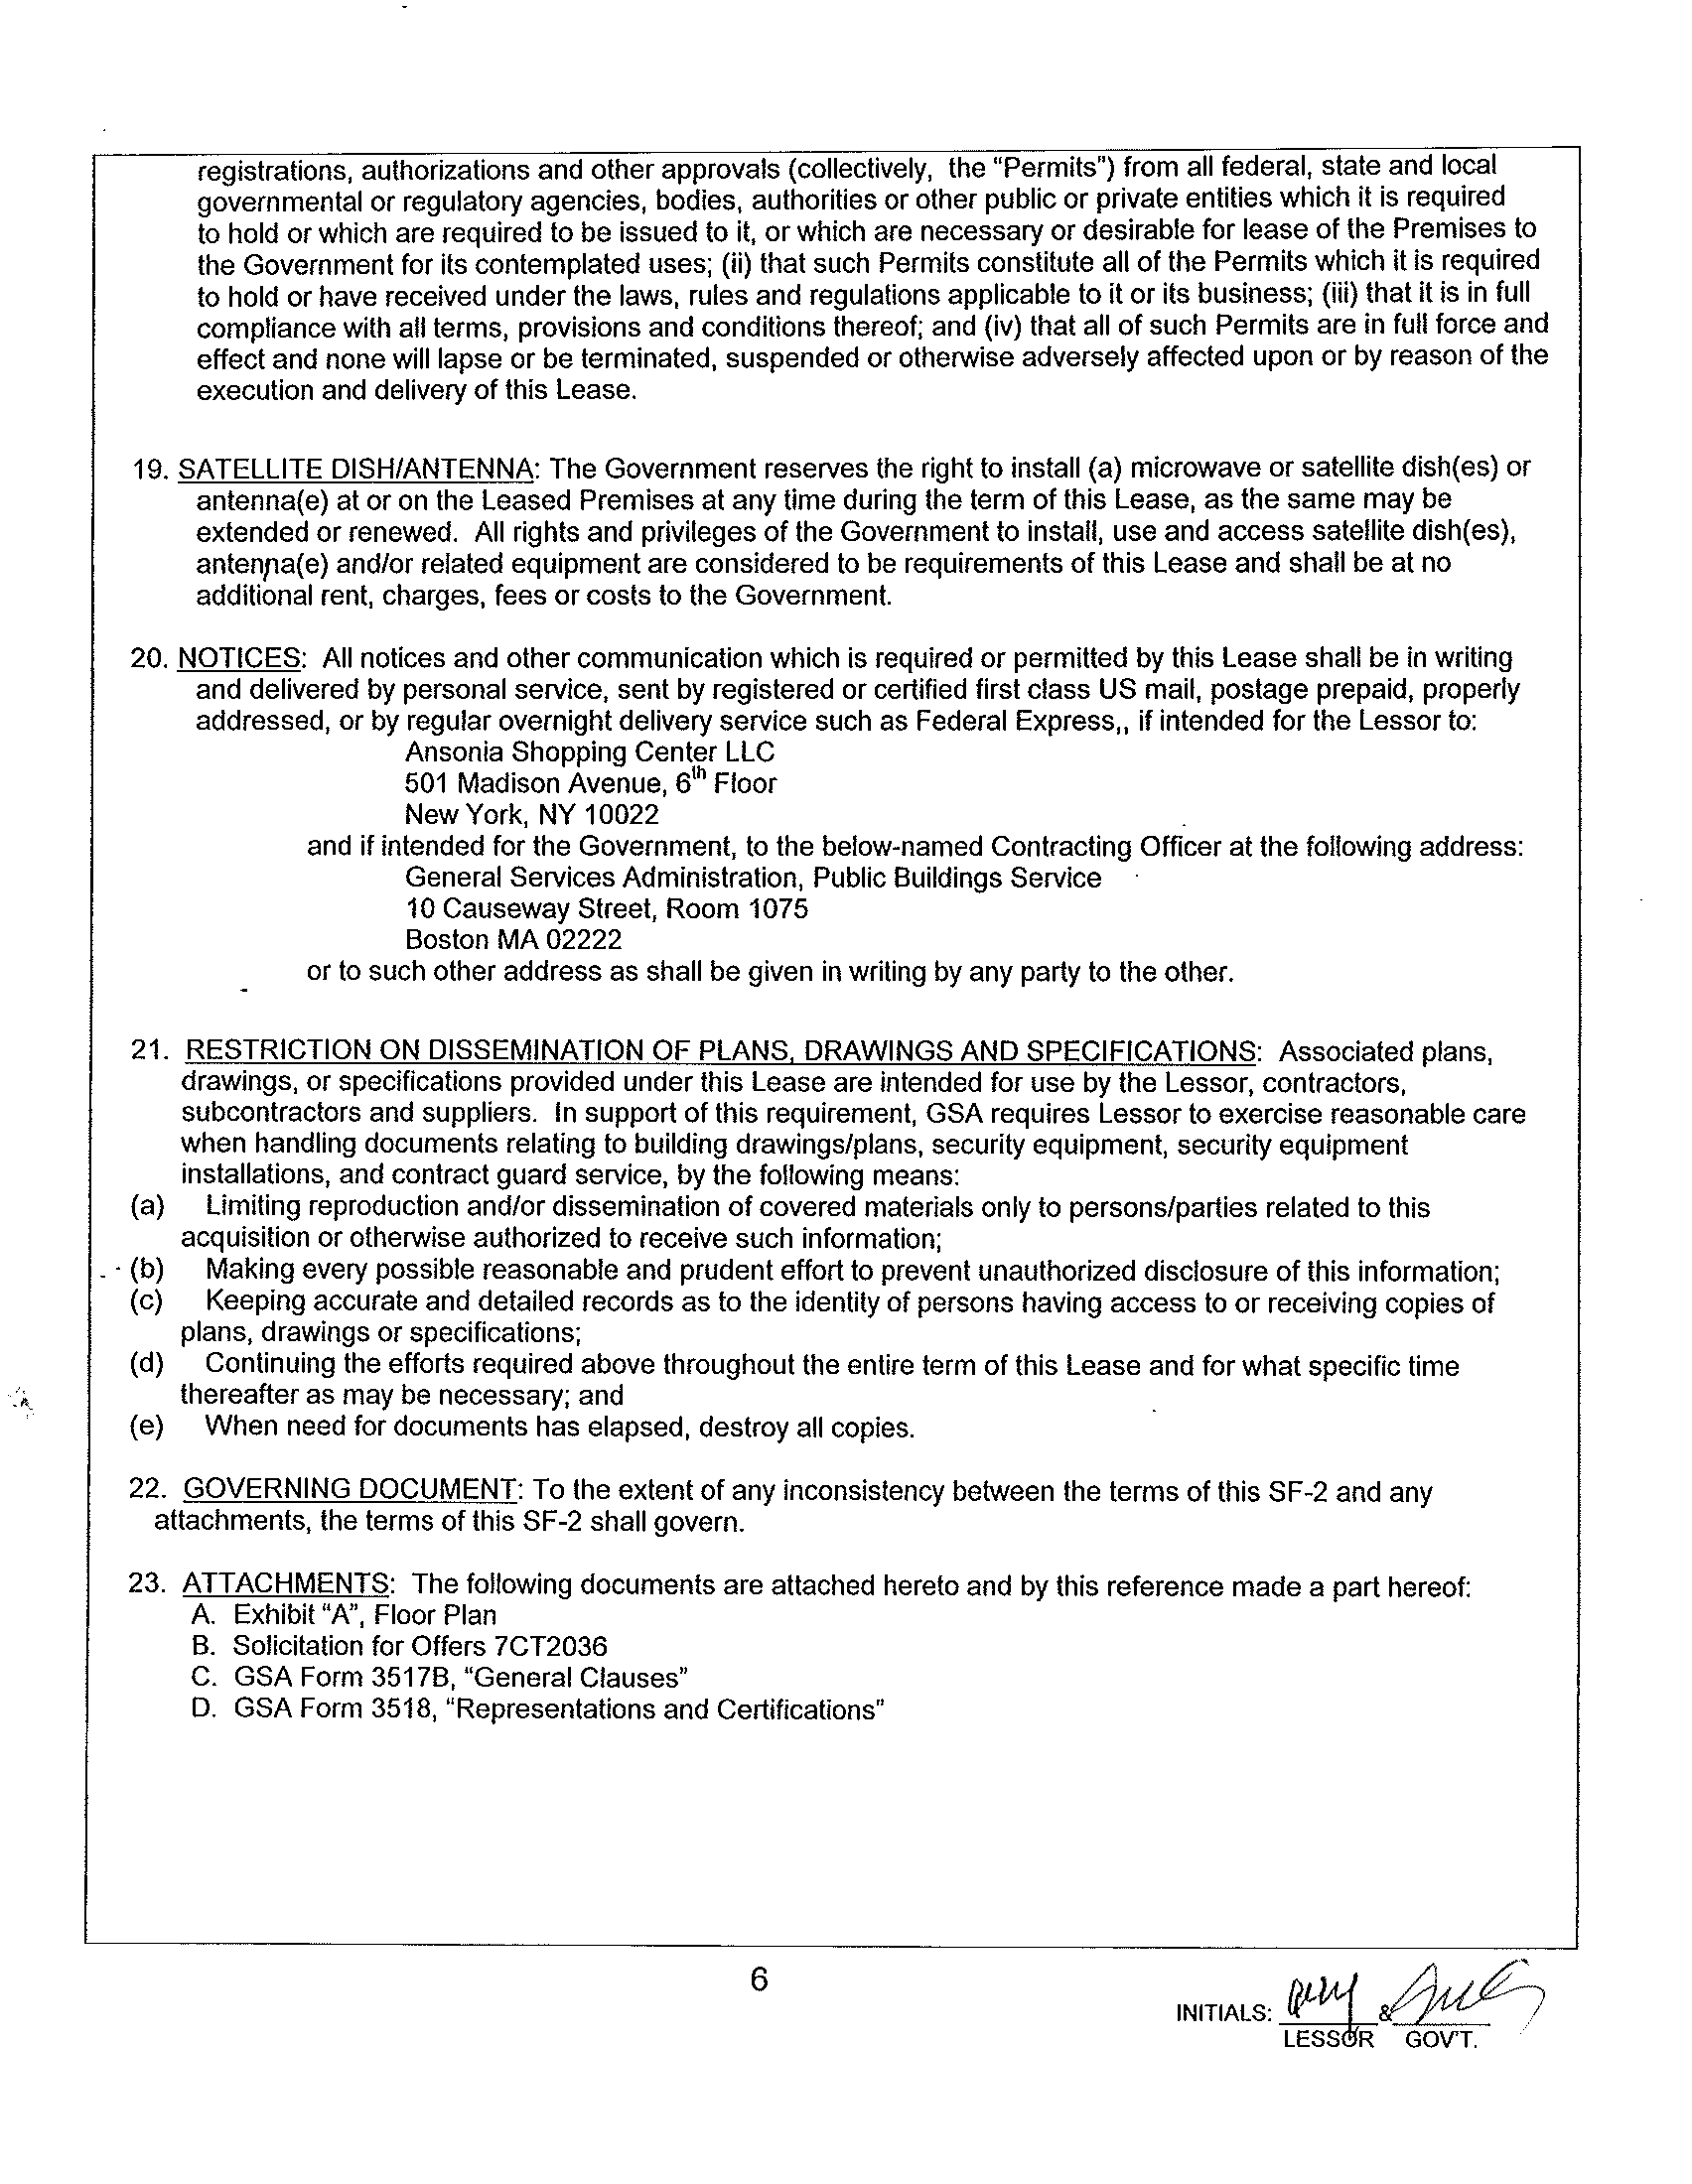handwritten: (1387, 1955, 1557, 2021), (1281, 1968, 1360, 2026)
